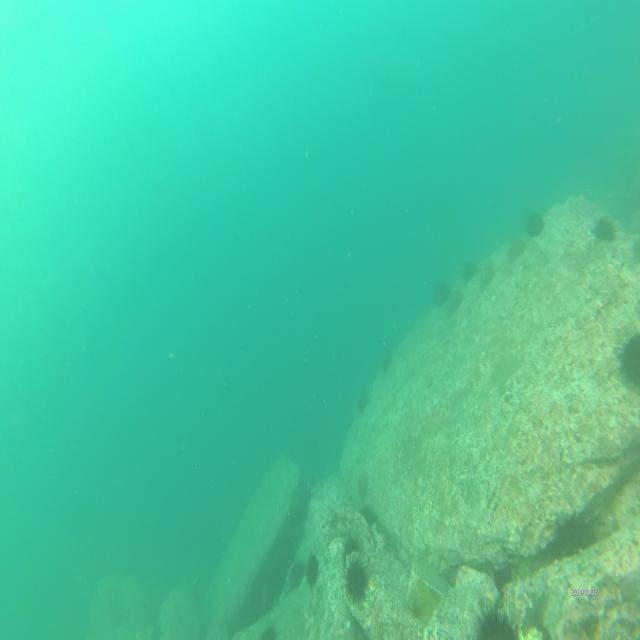echinus: (470, 604, 522, 640), (613, 322, 640, 389), (342, 559, 372, 609), (592, 208, 620, 248), (338, 529, 363, 566), (504, 233, 528, 265), (525, 208, 546, 242), (286, 556, 306, 589), (478, 260, 498, 292), (304, 552, 319, 588), (461, 256, 479, 285), (432, 278, 449, 304), (356, 390, 372, 417), (447, 287, 463, 314), (380, 348, 394, 376)
